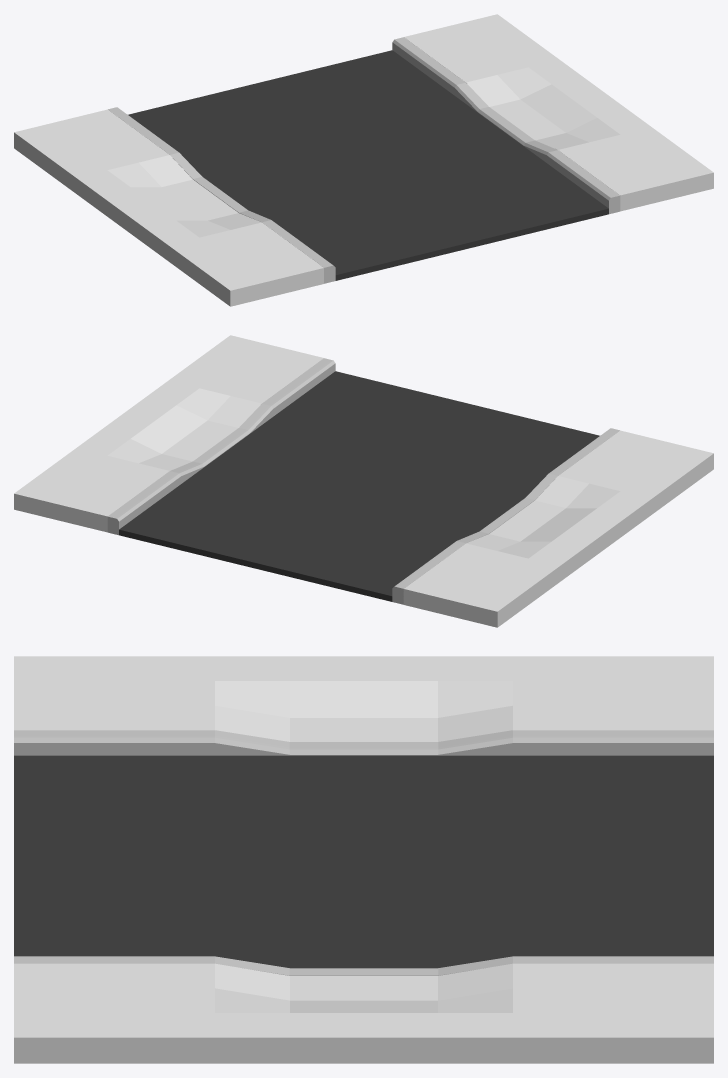
File: street_aprons.glb
3 views of the same model, one above another, from view 1: azimuth 30°, elevation 25°; view 2: azimuth 150°, elevation 25°; view 3: azimuth 270°, elevation 25° (orthographic). The views are drawn at different scales.
Parts seen in each view (by area): view 1: StreetFlat-col.001, Sidewalk-col.002, Sidewalk-col.003; view 2: StreetFlat-col.001, Sidewalk-col.002, Sidewalk-col.003; view 3: StreetFlat-col.001, Sidewalk-col.003, Sidewalk-col.002.
Boxes of the visible parts, left/top/right/bottom form: StreetFlat-col.001: left=108, top=37, right=620, bottom=283; Sidewalk-col.002: left=14, top=109, right=323, bottom=306; Sidewalk-col.003: left=404, top=14, right=713, bottom=211; StreetFlat-col.001: left=107, top=358, right=619, bottom=604; Sidewalk-col.002: left=403, top=430, right=713, bottom=627; Sidewalk-col.003: left=14, top=335, right=323, bottom=532; StreetFlat-col.001: left=14, top=730, right=713, bottom=975; Sidewalk-col.003: left=14, top=963, right=713, bottom=1063; Sidewalk-col.002: left=14, top=656, right=713, bottom=741.
Size of the model in its own units: 25.79 by 0.826 by 20.
1 material, 1 textured.
